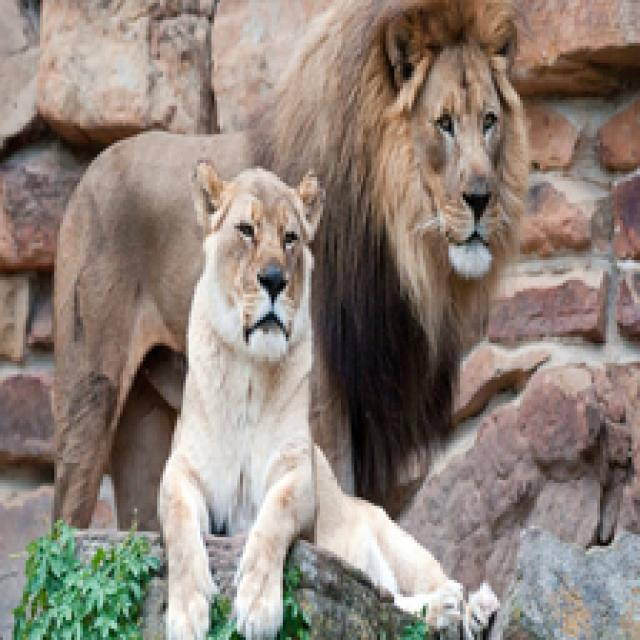lion: (57, 0, 480, 557), (168, 159, 488, 640)
